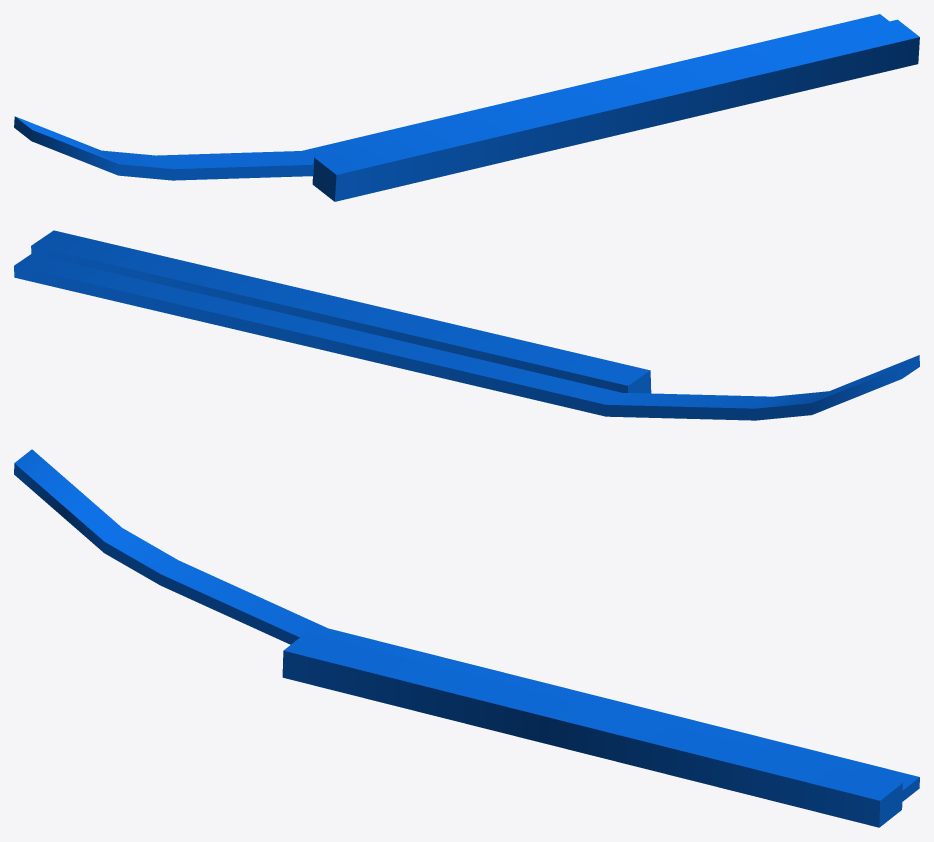
File: Twisted_Metal_04.fbx
3 renders of one model, top to bottom at view 1: azimuth 30°, elevation 25°; view 2: azimuth 150°, elevation 25°; view 3: azimuth 330°, elevation 25°, orthographic. The views are drawn at different scales.
Visible parts, largest first — view 1: Twisted_Metal_04; view 2: Twisted_Metal_04; view 3: Twisted_Metal_04.
Boxes of the visible parts, x1=… form: Twisted_Metal_04: x1=14, y1=14, x2=919, y2=201; Twisted_Metal_04: x1=14, y1=230, x2=919, y2=420; Twisted_Metal_04: x1=14, y1=449, x2=919, y2=827.
Size of the model in its own units: 396 by 57.69 by 31.69.
